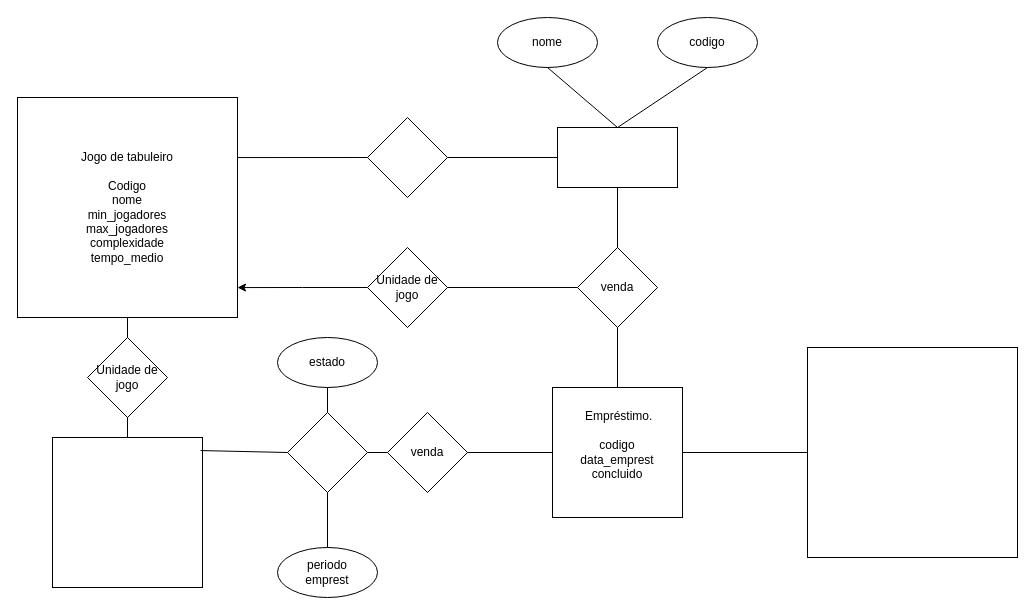
The diagram is 1035 pixels wide and 615 high, and some of its shapes have lost their labels. Here are the shapes that lost their labels. From the top down, the centre of each, then its label:
At point 407,157: "Pertence".
At point 617,157: "categoria".
At point 327,452: "Tipo".
At point 912,452: "Cliente CPF nome email logradouro numero bairro complemento CEP data_nasc".
At point 127,512: "Unidade de jogo codigo estado tipo preco periodo_emprest".
